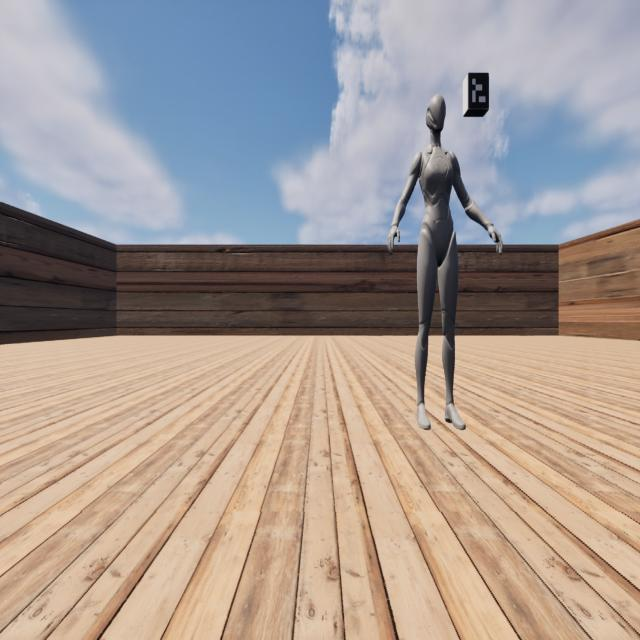aruco: (469, 72, 489, 109)
hip: (417, 230, 457, 246)
